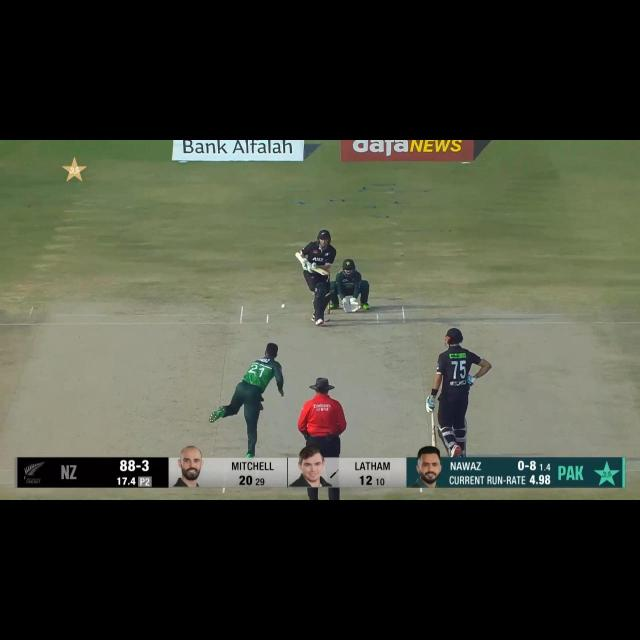bat: (311, 265, 332, 279), (429, 426, 439, 448)
toe: (320, 270, 330, 277), (431, 440, 439, 448)
